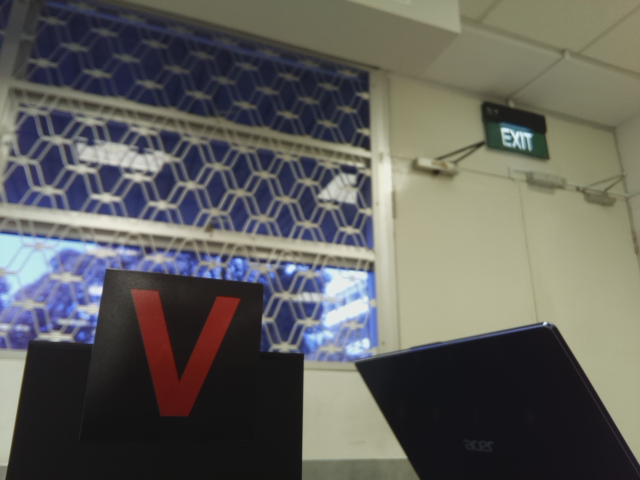v: (124, 283, 250, 430)
